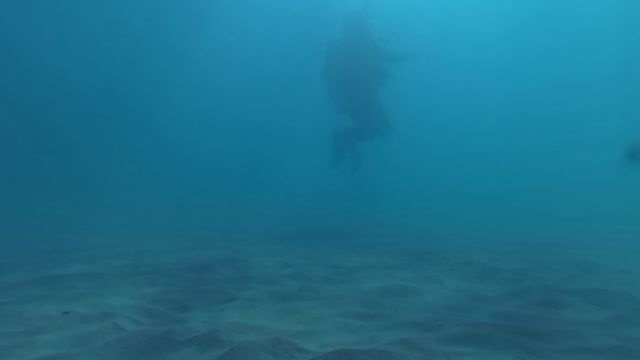Diver: (319, 8, 424, 198)
